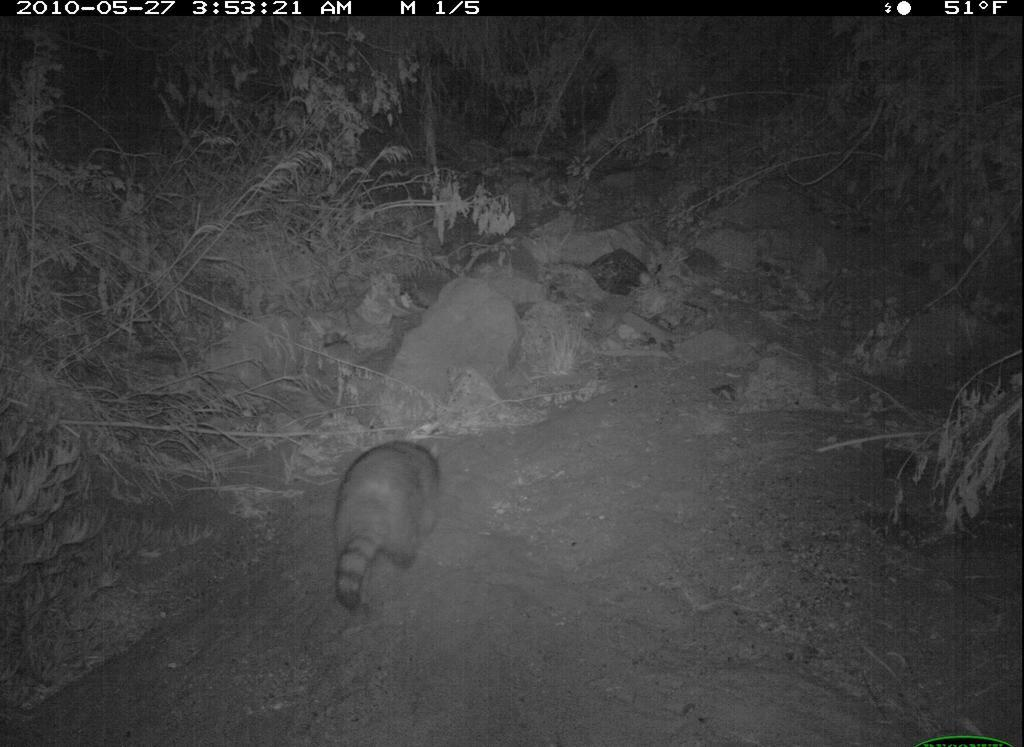raccoon: (301, 424, 463, 617)
